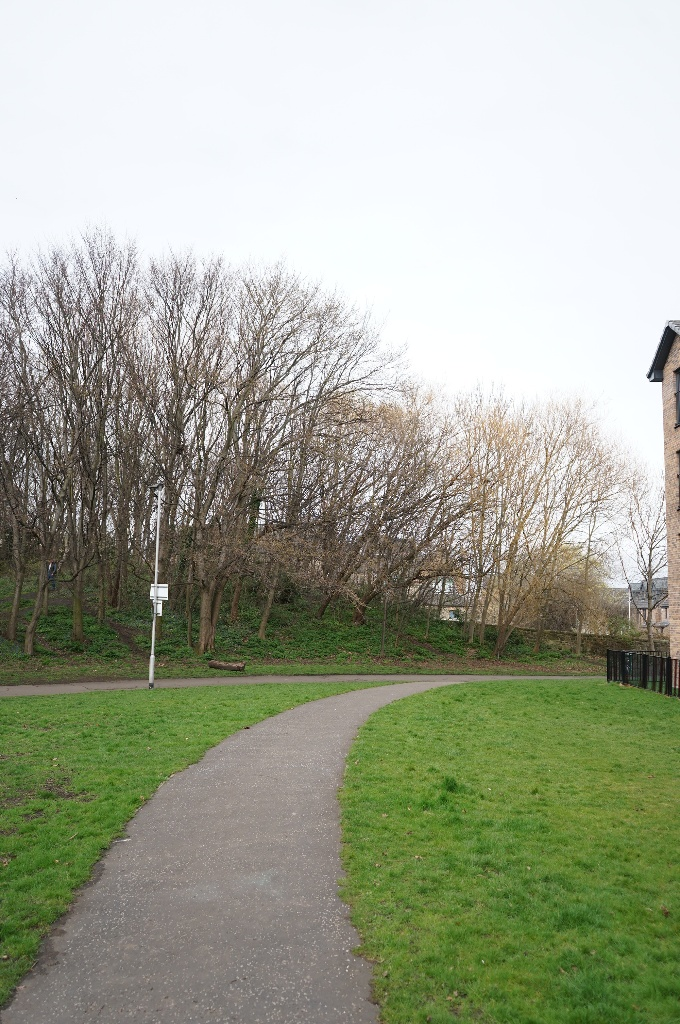Tree: (6, 210, 573, 664)
